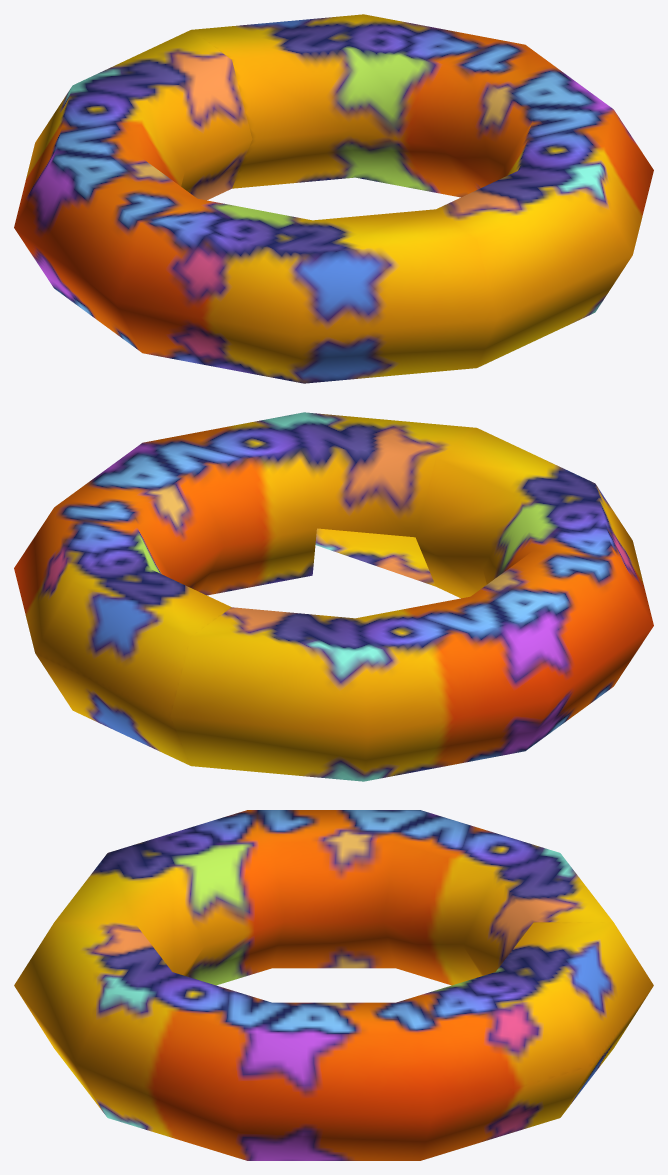
The model's file is datan_common_tube_bd26a2bc.obj.
3 views of the same model, one above another, from view 1: azimuth 30°, elevation 25°; view 2: azimuth 150°, elevation 25°; view 3: azimuth 270°, elevation 25° (orthographic). The views are drawn at different scales.
Parts seen in each view (by area): view 1: datan_common_tube_bd26a2bc; view 2: datan_common_tube_bd26a2bc; view 3: datan_common_tube_bd26a2bc.
Boxes of the visible parts, <box> form: datan_common_tube_bd26a2bc: <box>14,14,653,383</box>; datan_common_tube_bd26a2bc: <box>14,412,653,781</box>; datan_common_tube_bd26a2bc: <box>14,810,653,1160</box>.
Size of the model in its own units: 0.7991 by 0.1825 by 0.8402.
Materials: 1 (1 with a texture image).
